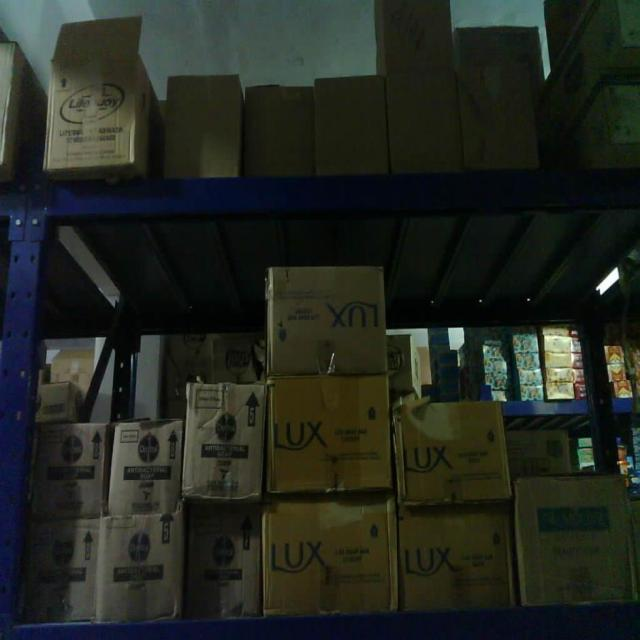box: (511, 471, 638, 609), (260, 496, 402, 617), (264, 371, 397, 492), (265, 263, 389, 378), (395, 504, 519, 613), (392, 399, 509, 511), (42, 31, 136, 170), (180, 378, 269, 502), (165, 70, 246, 181), (100, 516, 183, 624), (315, 74, 394, 181), (23, 514, 101, 620), (102, 418, 184, 516), (35, 415, 107, 526), (188, 514, 264, 619), (243, 82, 320, 176)
